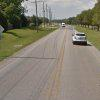Car: (68, 24, 91, 48)
